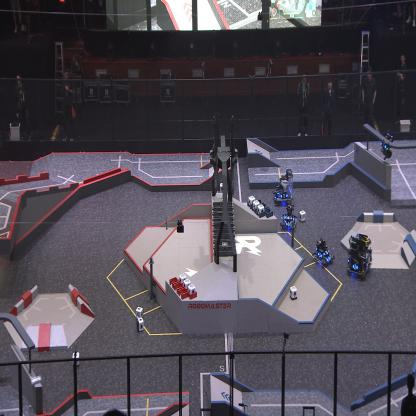car: (346, 232, 373, 278), (272, 166, 294, 205), (312, 237, 336, 268), (280, 203, 298, 230)
